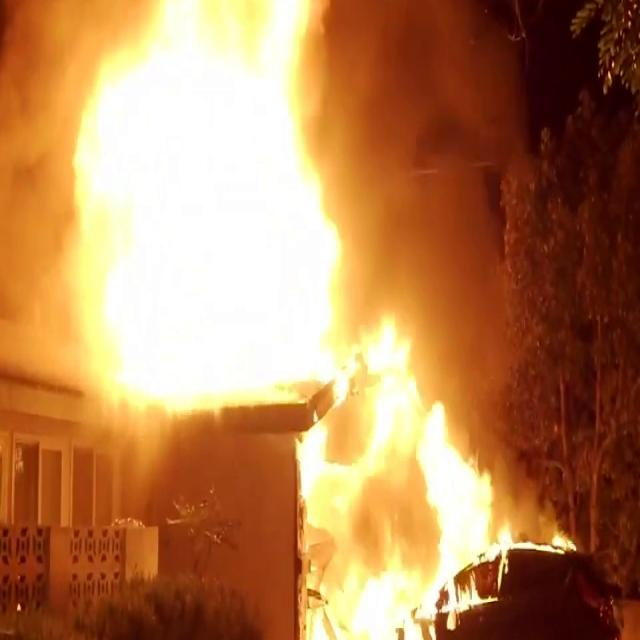fire: (66, 0, 343, 398), (323, 377, 515, 640)
smoke: (349, 0, 490, 293)
